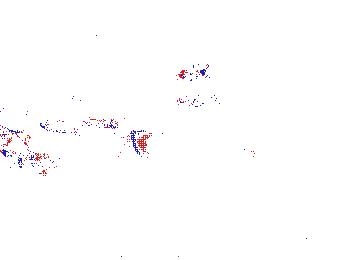X-ray fish: (130, 9, 164, 50)
red belly glassfish: (175, 90, 223, 112), (178, 66, 211, 83)
redtail glassfish: (57, 94, 124, 135), (1, 123, 43, 172), (115, 122, 149, 158), (236, 132, 259, 167)
